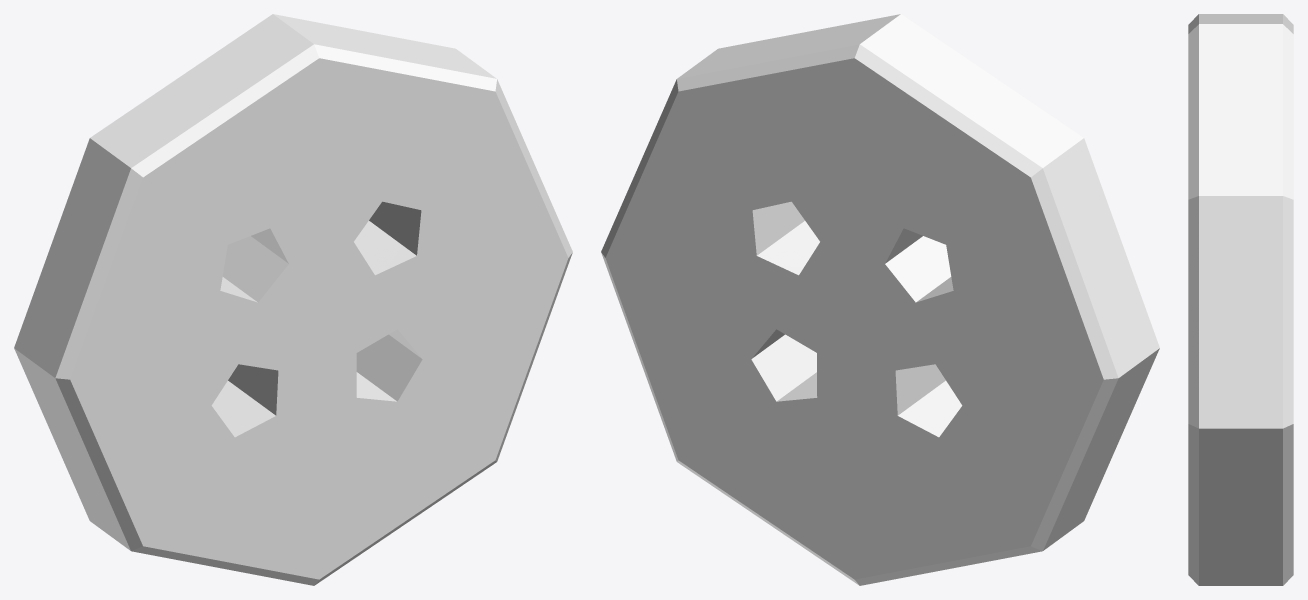
The model's file is button.fbx.
3 views of the same model, side by side, from view 1: azimuth 30°, elevation 25°; view 2: azimuth 150°, elevation 25°; view 3: azimuth 270°, elevation 25° (orthographic).
Visible parts, largest first — view 1: Cylinder002; view 2: Cylinder002; view 3: Cylinder002.
Part boxes in pixels (x1,y1,x2,y2): Cylinder002: (14, 14, 572, 585); Cylinder002: (601, 14, 1159, 585); Cylinder002: (1188, 14, 1293, 585).
Bounding box in the file's own units: 26.59 × 26.59 × 4.6.
